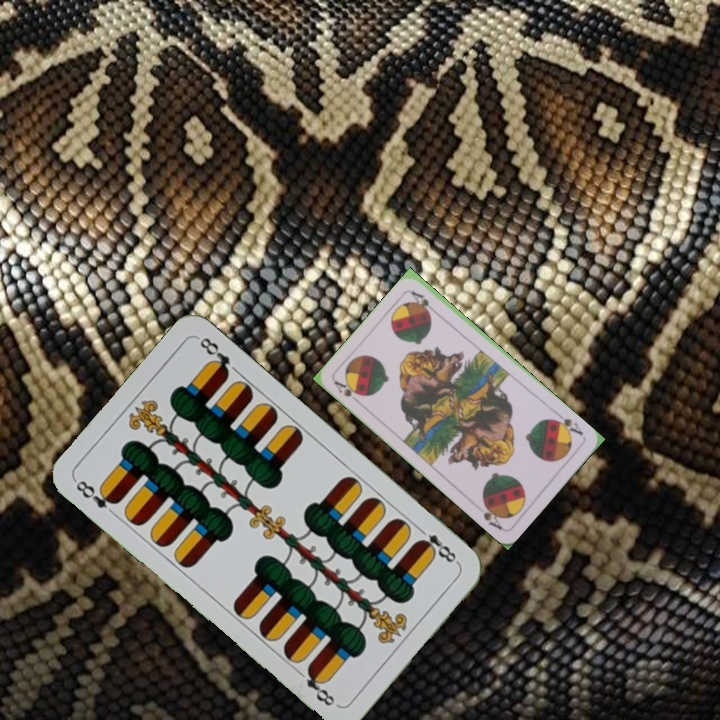E8: (413, 523, 462, 567), (71, 476, 122, 511)
SA: (329, 376, 366, 407), (548, 409, 586, 439)
